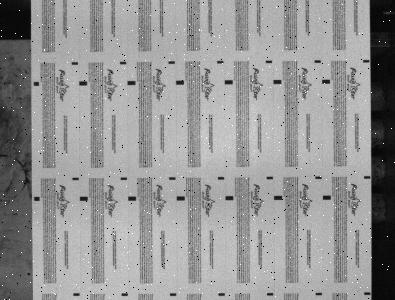backgroundclutter: (27, 272, 31, 275)
incorrect qblock: (33, 81, 39, 86), (34, 197, 40, 201)
qblock: (128, 196, 137, 201), (274, 195, 283, 200), (322, 195, 331, 200), (127, 80, 136, 85), (273, 79, 282, 84), (80, 196, 88, 201), (177, 196, 185, 201), (79, 81, 87, 86), (322, 79, 330, 84), (176, 80, 184, 85), (225, 196, 234, 200), (225, 80, 233, 84)
smallqblock: (217, 176, 225, 180), (218, 292, 225, 296), (217, 60, 224, 64), (363, 59, 370, 63), (266, 176, 274, 179), (364, 292, 371, 295), (170, 293, 177, 296), (71, 62, 78, 65), (121, 293, 128, 296), (315, 292, 322, 295), (73, 293, 80, 296), (267, 292, 274, 295), (168, 61, 175, 64), (314, 60, 321, 63), (72, 177, 79, 180), (169, 177, 176, 180), (120, 177, 127, 180), (315, 176, 322, 179), (364, 176, 371, 179), (120, 61, 126, 64), (266, 60, 272, 63)
